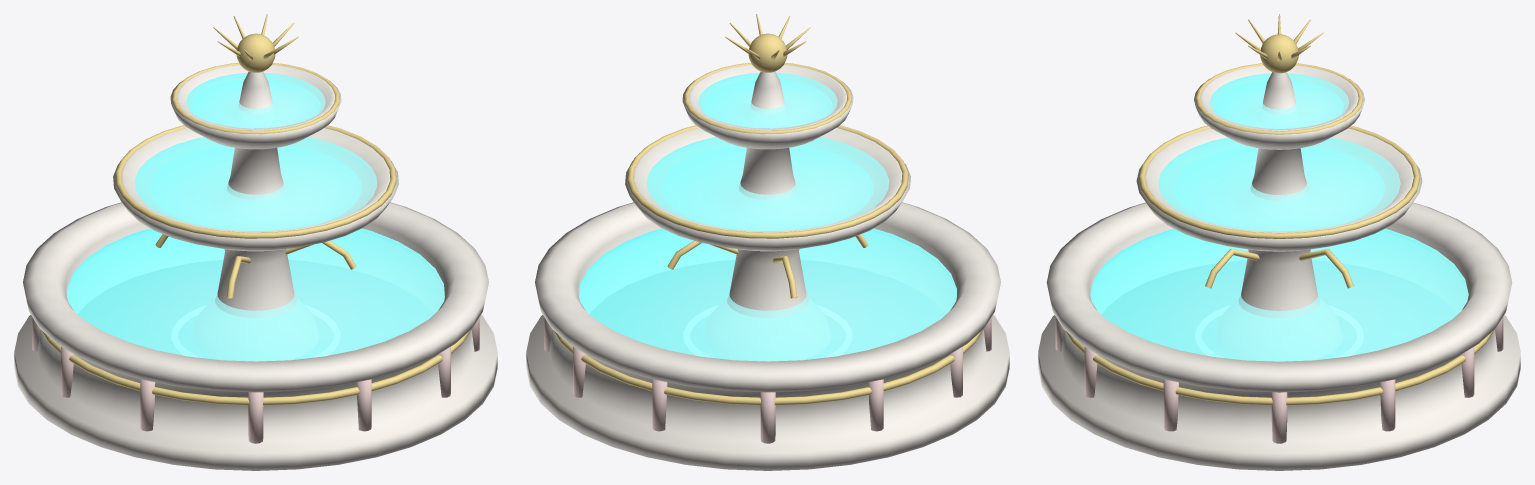
File: art_deco_fountain.glb
3 renders of one model, left to right at view 1: azimuth 30°, elevation 25°; view 2: azimuth 150°, elevation 25°; view 3: azimuth 270°, elevation 25°, orthographic.
Parts seen in each view (by area): view 1: MainBasin; view 2: MainBasin; view 3: MainBasin.
Boxes of the visible parts, x1=… form: MainBasin: x1=14, y1=14, x2=497, y2=470; MainBasin: x1=526, y1=14, x2=1009, y2=470; MainBasin: x1=1038, y1=14, x2=1520, y2=470.
Bounding box in the file's own units: 3.44 × 2.65 × 3.44.
